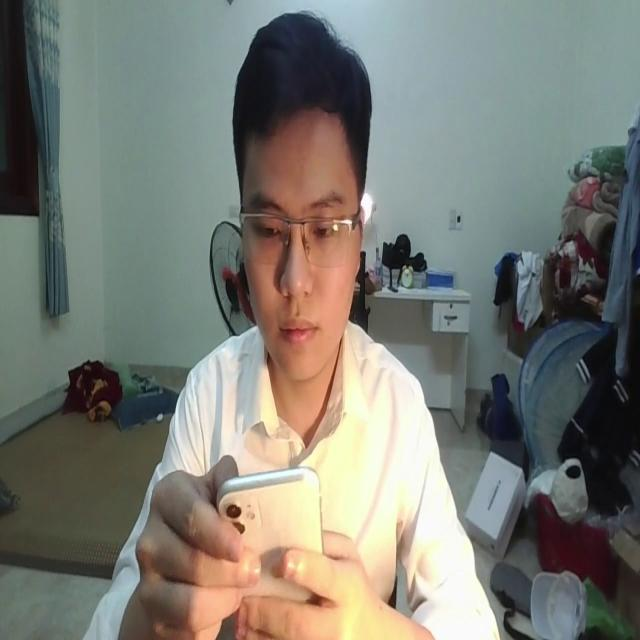phone: (218, 463, 326, 609)
student: (69, 4, 495, 640)
